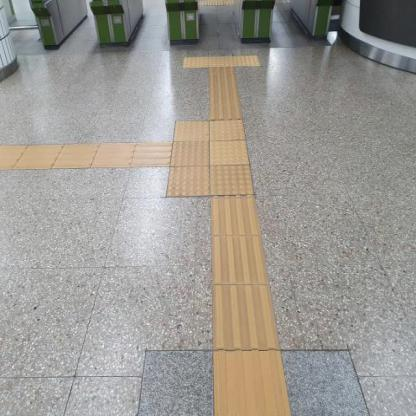podotacti: (213, 196, 294, 413), (152, 105, 263, 211), (0, 137, 170, 166), (209, 70, 238, 122), (185, 56, 259, 68)
